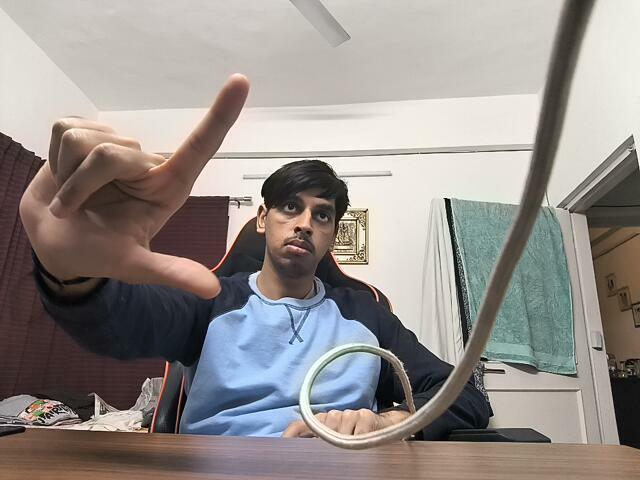UP: (11, 65, 249, 300)
